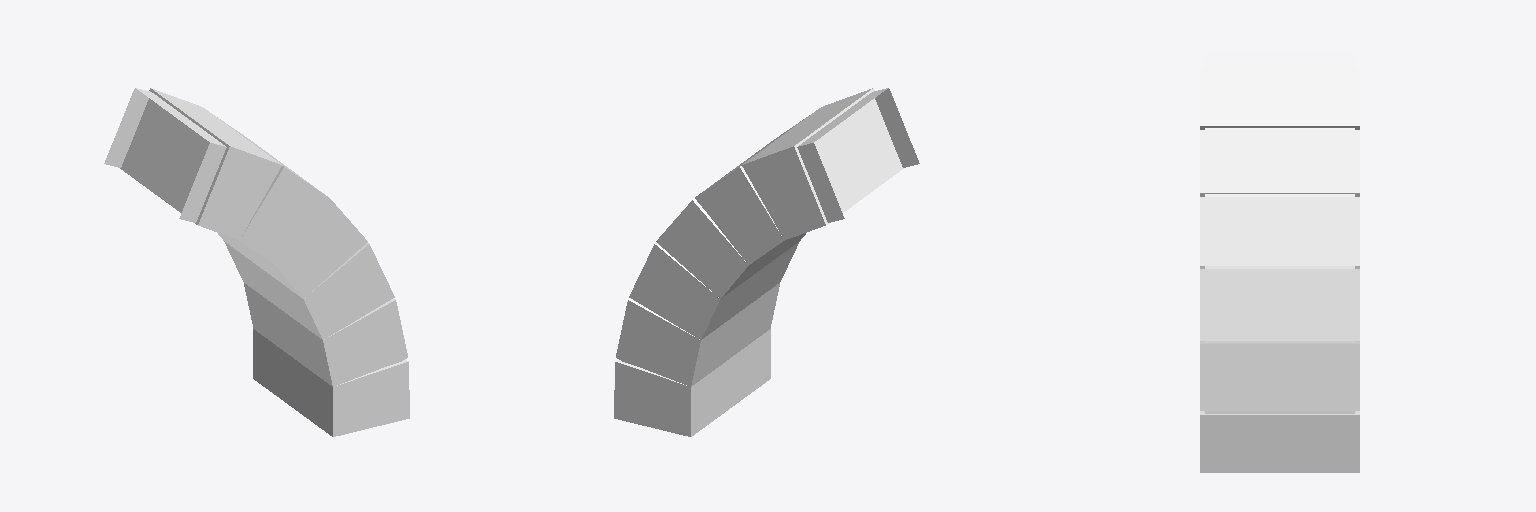
Rendered from generic_gothic_arch_3.obj.
3 views of the same model, side by side, from view 1: azimuth 30°, elevation 25°; view 2: azimuth 150°, elevation 25°; view 3: azimuth 270°, elevation 25° (orthographic).
Visible parts, largest first — view 1: arch, arch_inner; view 2: arch, arch_inner; view 3: arch, arch_inner.
Part boxes in pixels (x1,y1,x2,y2): arch: (120,88,409,436); arch_inner: (104,88,402,365); arch: (614,88,903,436); arch_inner: (621,88,919,365); arch: (1200,69,1359,472); arch_inner: (1205,54,1354,413).
Size of the model in its own units: 1.87 by 2.52 by 1.13.